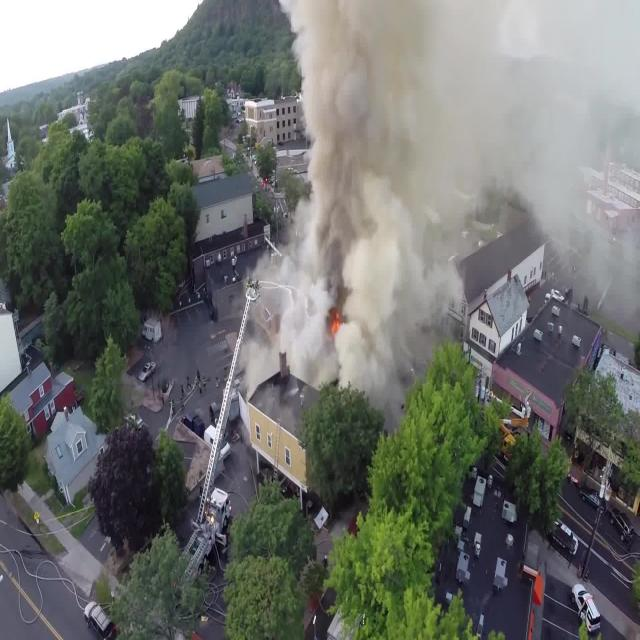Fire: (329, 304, 343, 341)
Smoke: (248, 0, 640, 408)
